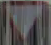Give way: (4, 0, 48, 44)
